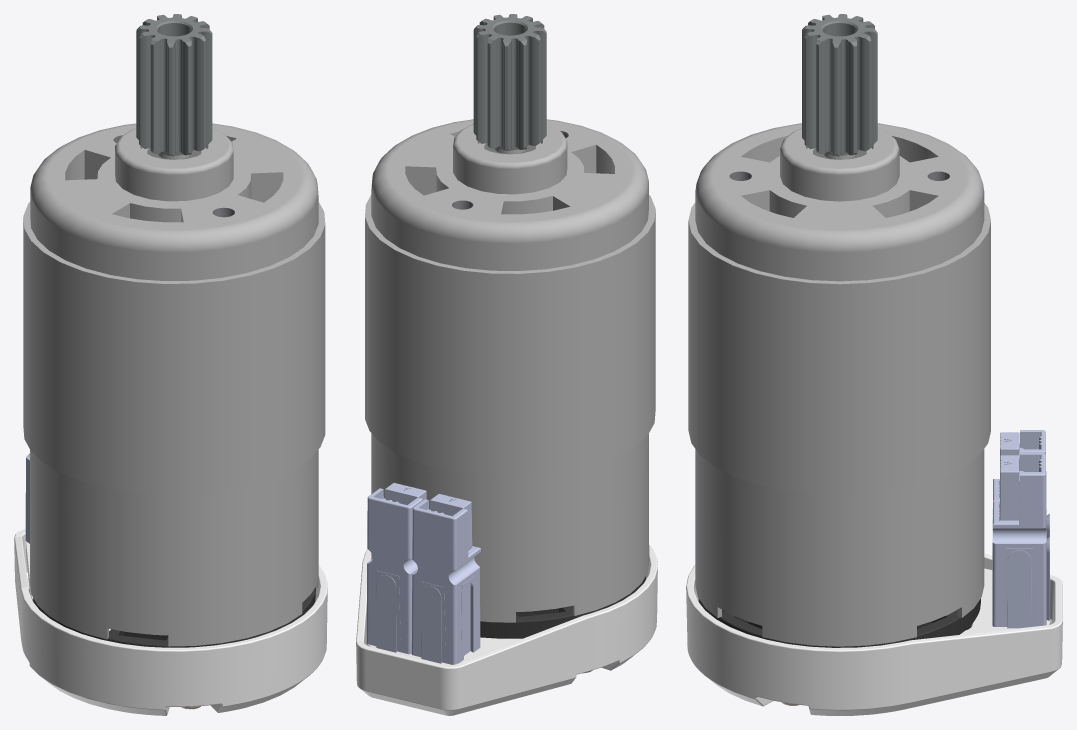
File: 775pro (775pro Connect and 32DP Pinion) (217-6348).FBX
3 renders of one model, left to right at view 1: azimuth 30°, elevation 25°; view 2: azimuth 150°, elevation 25°; view 3: azimuth 270°, elevation 25°, orthographic. The views are drawn at different scales.
Visible parts, largest first — view 1: 775pro (775pro Connect and 32DP Pinion) (217-6348).step (×4); view 2: 775pro (775pro Connect and 32DP Pinion) (217-6348).step (×7); view 3: 775pro (775pro Connect and 32DP Pinion) (217-6348).step (×7).
Part boxes in pixels (<box>): 775pro (775pro Connect and 32DP Pinion) (217-6348).step (×4): <box>14,14,327,715</box>; 775pro (775pro Connect and 32DP Pinion) (217-6348).step (×7): <box>356,14,657,715</box>; 775pro (775pro Connect and 32DP Pinion) (217-6348).step (×7): <box>686,14,1062,715</box>.
Size of the model in its own units: 4.5 by 10.15 by 5.51.
